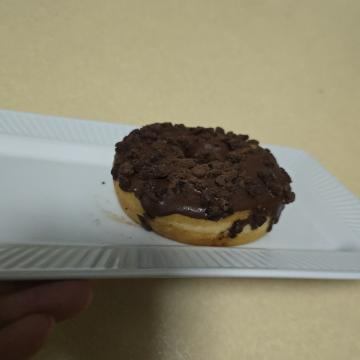doughnut: (107, 54, 258, 265)
